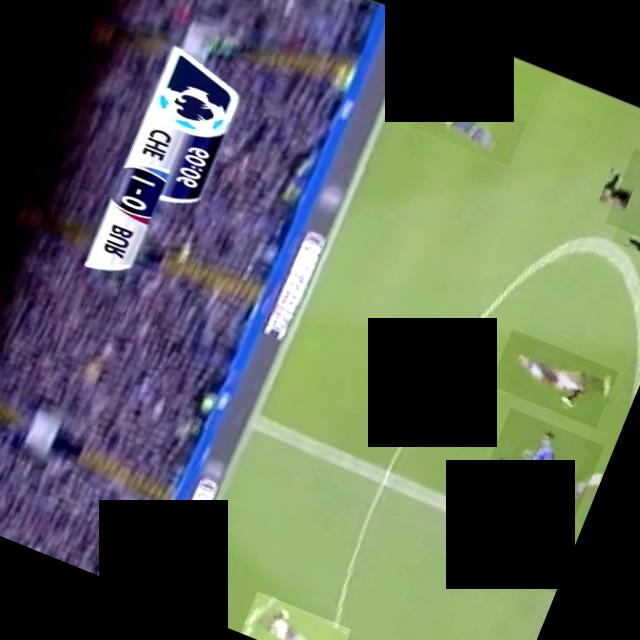referee: (604, 147, 640, 251)
soccer-player: (473, 407, 604, 538), (489, 328, 618, 428), (414, 84, 526, 164), (240, 590, 351, 640), (540, 561, 566, 592)
